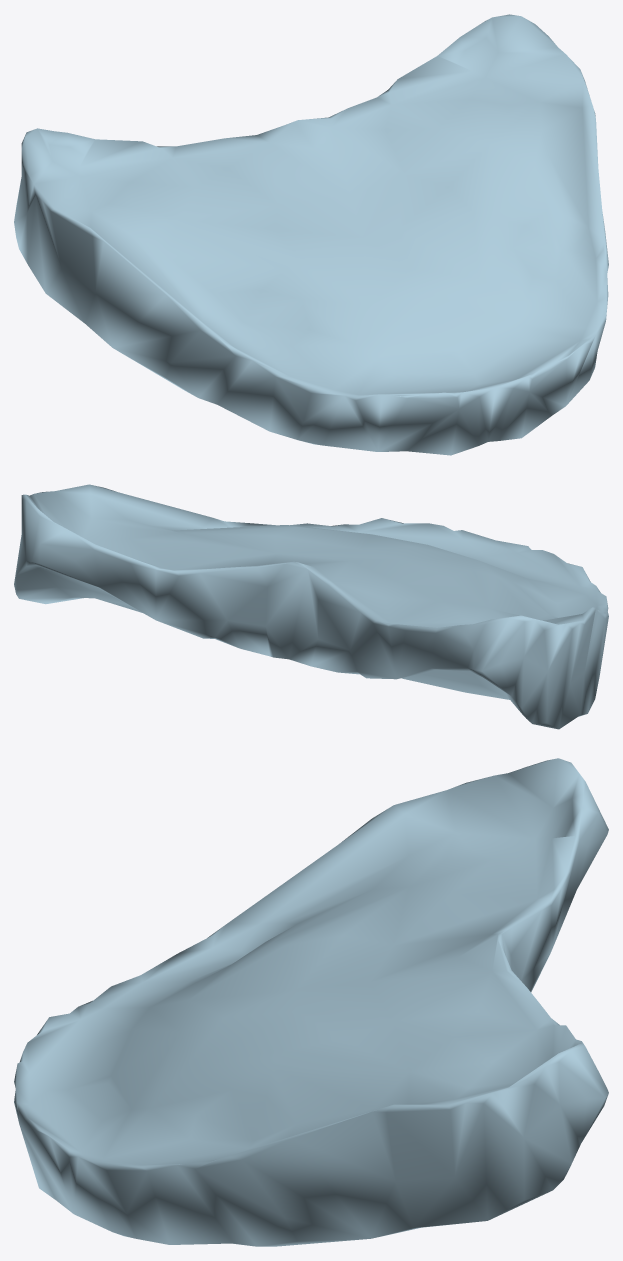
Rendered from articulacoes-intervertebral-disc-t3-t4.glb.
3 views of the same model, one above another, from view 1: azimuth 30°, elevation 25°; view 2: azimuth 150°, elevation 25°; view 3: azimuth 270°, elevation 25° (orthographic). The views are drawn at different scales.
Visible parts, largest first — view 1: Intervertebral disc T3-T4; view 2: Intervertebral disc T3-T4; view 3: Intervertebral disc T3-T4.
Boxes of the visible parts, x1,y1,x2,y2 form: Intervertebral disc T3-T4: (14,14,608,455); Intervertebral disc T3-T4: (14,484,608,729); Intervertebral disc T3-T4: (14,758,608,1246).
Size of the model in its own units: 0.0333 by 0.0127 by 0.0261.
